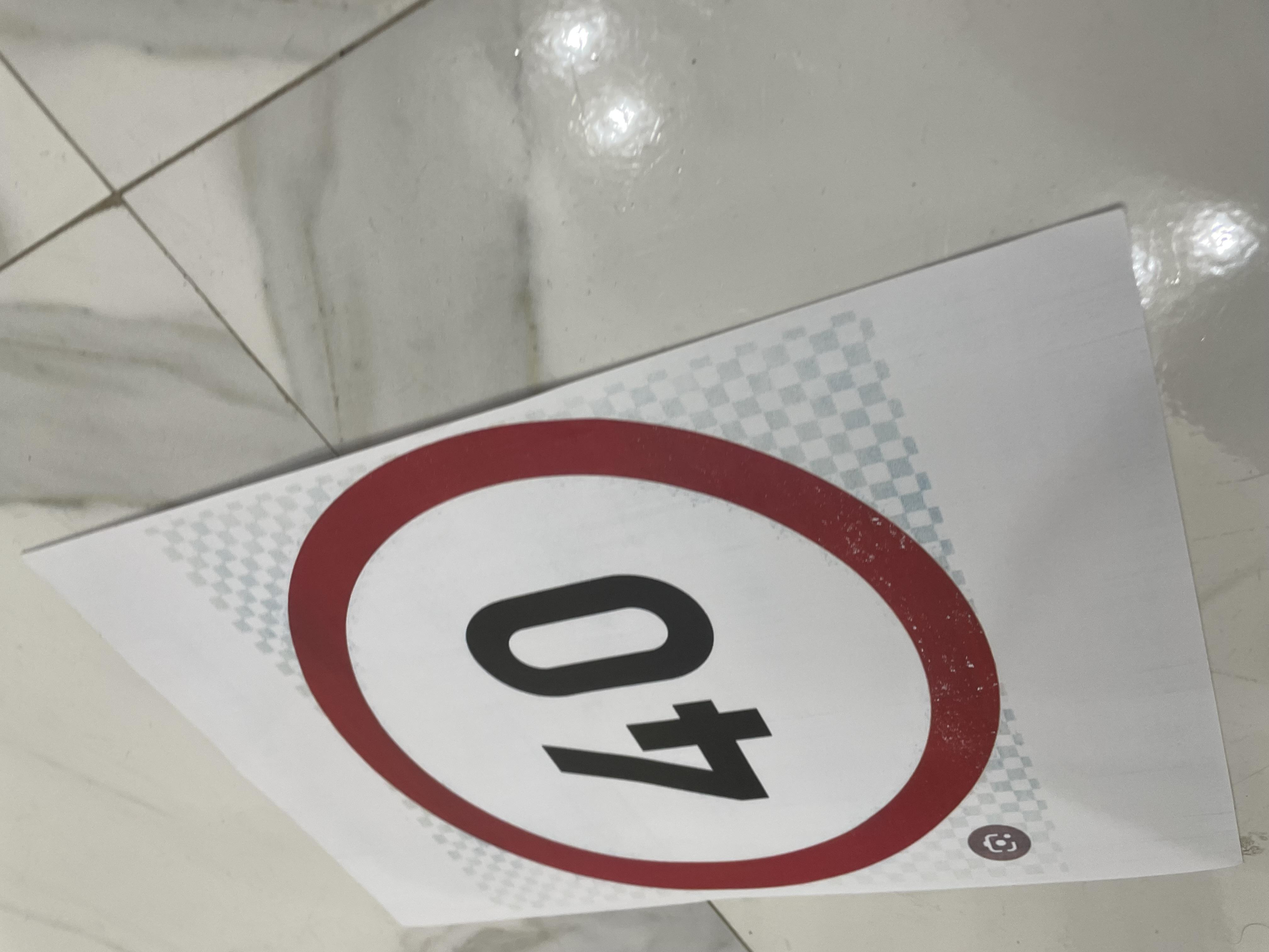40-Speed: (76, 213, 741, 762)
